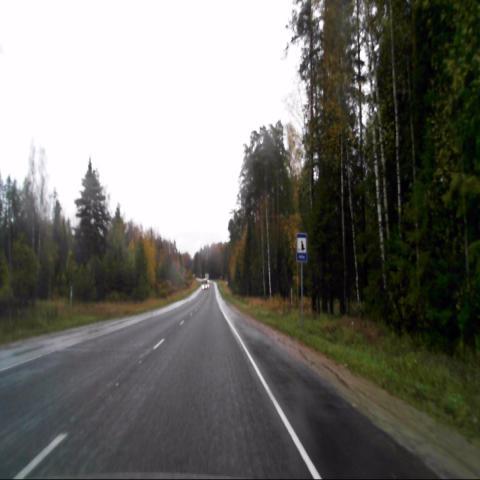7_11: (295, 232, 308, 262)
